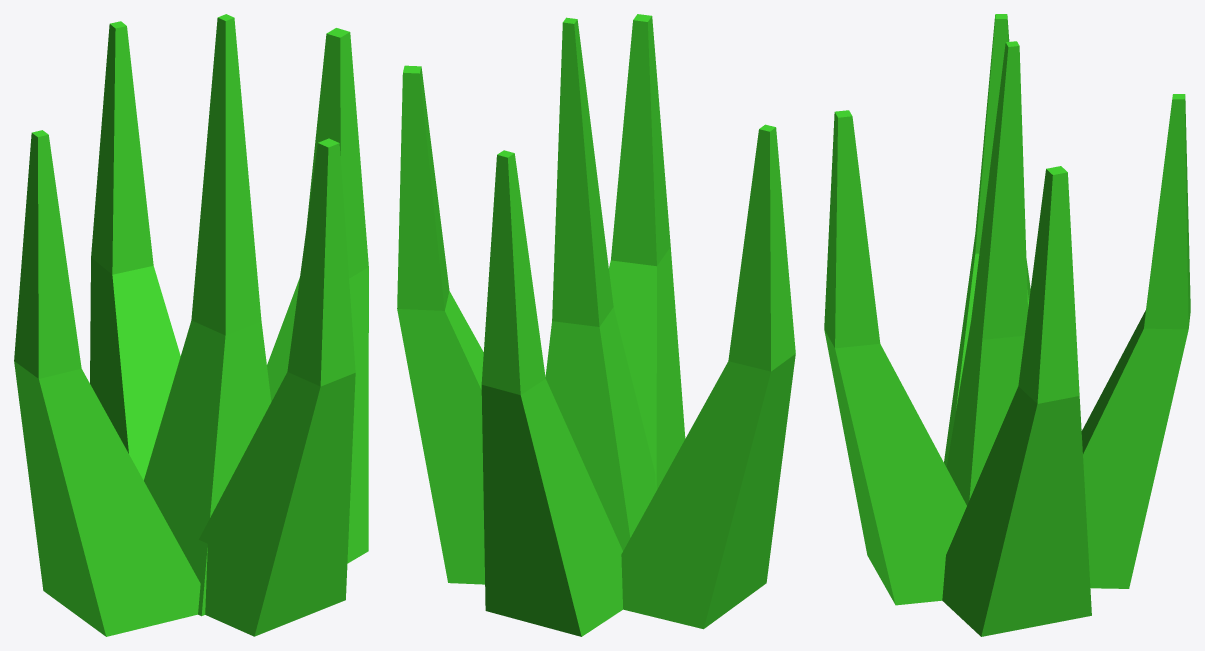
File: grass.fbx
3 views of the same model, side by side, from view 1: azimuth 30°, elevation 25°; view 2: azimuth 150°, elevation 25°; view 3: azimuth 270°, elevation 25° (orthographic). The views are drawn at different scales.
Parts seen in each view (by area): view 1: grass; view 2: grass; view 3: grass.
Part boxes in pixels (<box>): grass: <box>14,14,368,636</box>; grass: <box>397,14,795,636</box>; grass: <box>824,14,1190,636</box>.
Size of the model in its own units: 0.2349 by 0.3424 by 0.2133.
